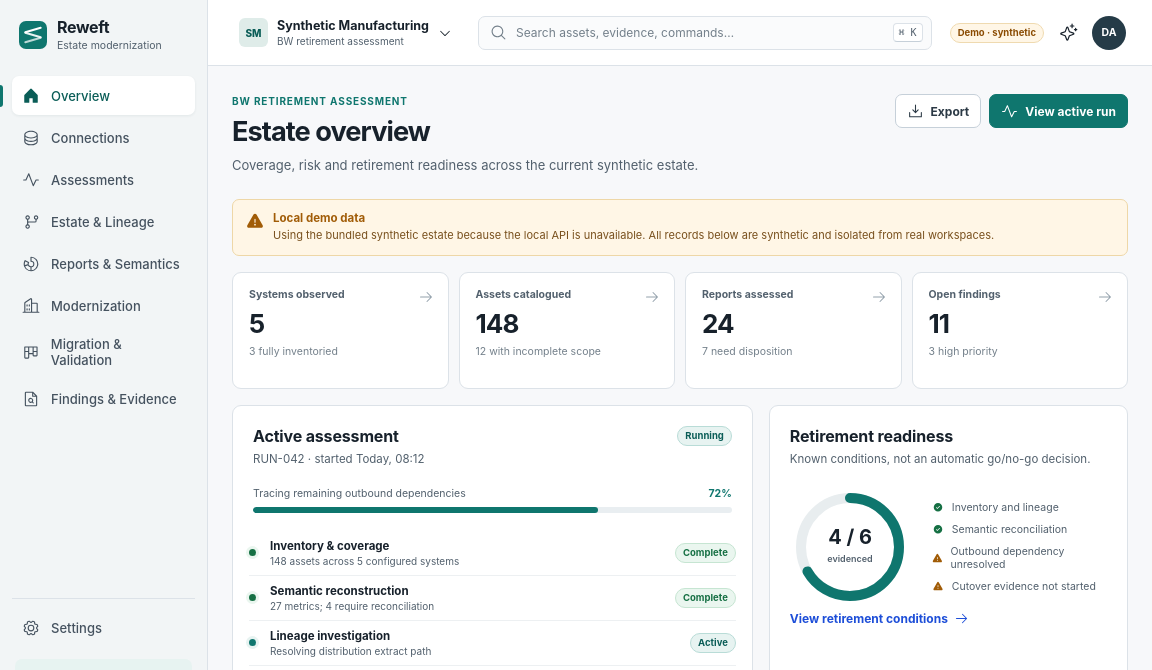
Reweft application shell › navigates between primary screens without a reload
This screenshot has width=1152, height=670.
Expected: the text "Systems observed" is shown, [249,288,345,301]
Click the button "Connections": (104, 138) [12,118,195,157]
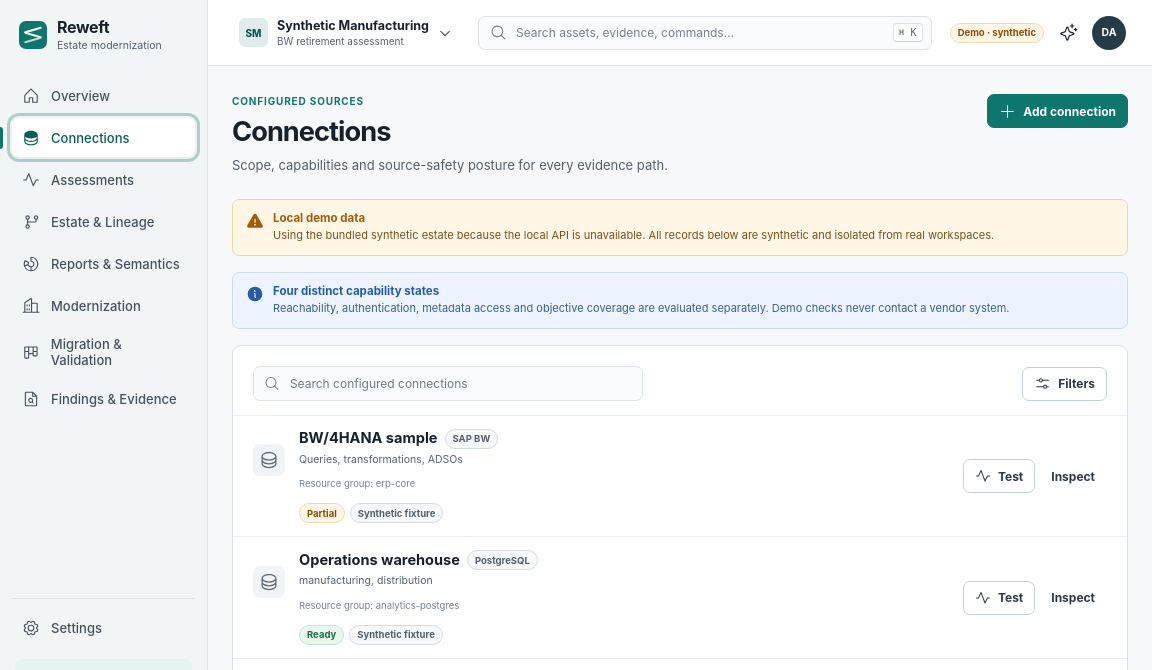
Now the heading "Connections" is shown, box [232,114,390,148]
Now the text "Four distinct capability states" is shown, box [273,284,439,298]
